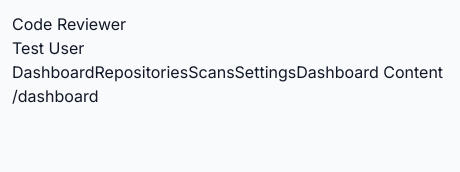
it: Sidebar Navigation Integration › Navigation Click Behavior › should navigate to settings when clicking Settings link
What coordinates should you click on to do the following:
click the link with test id "nav-settings"
I would click on:
 (265, 72)
Its box is [235,62,296,82].
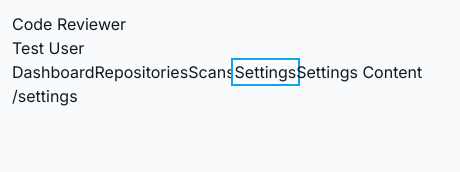
Expected: the text with test id "current-pathname" reads "/settings", [12,86,78,106]
Expected: the text "Settings Content" is shown, [296,60,422,84]
